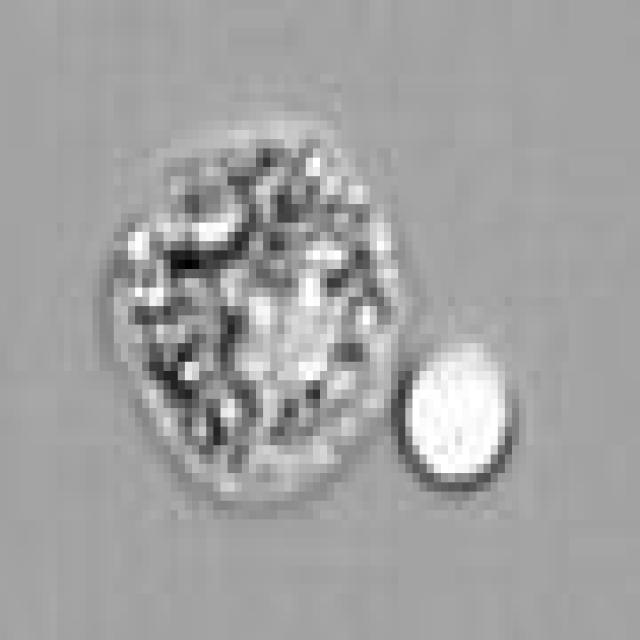Cancer Cell: (121, 121, 412, 510)
WBC: (391, 334, 519, 492)
